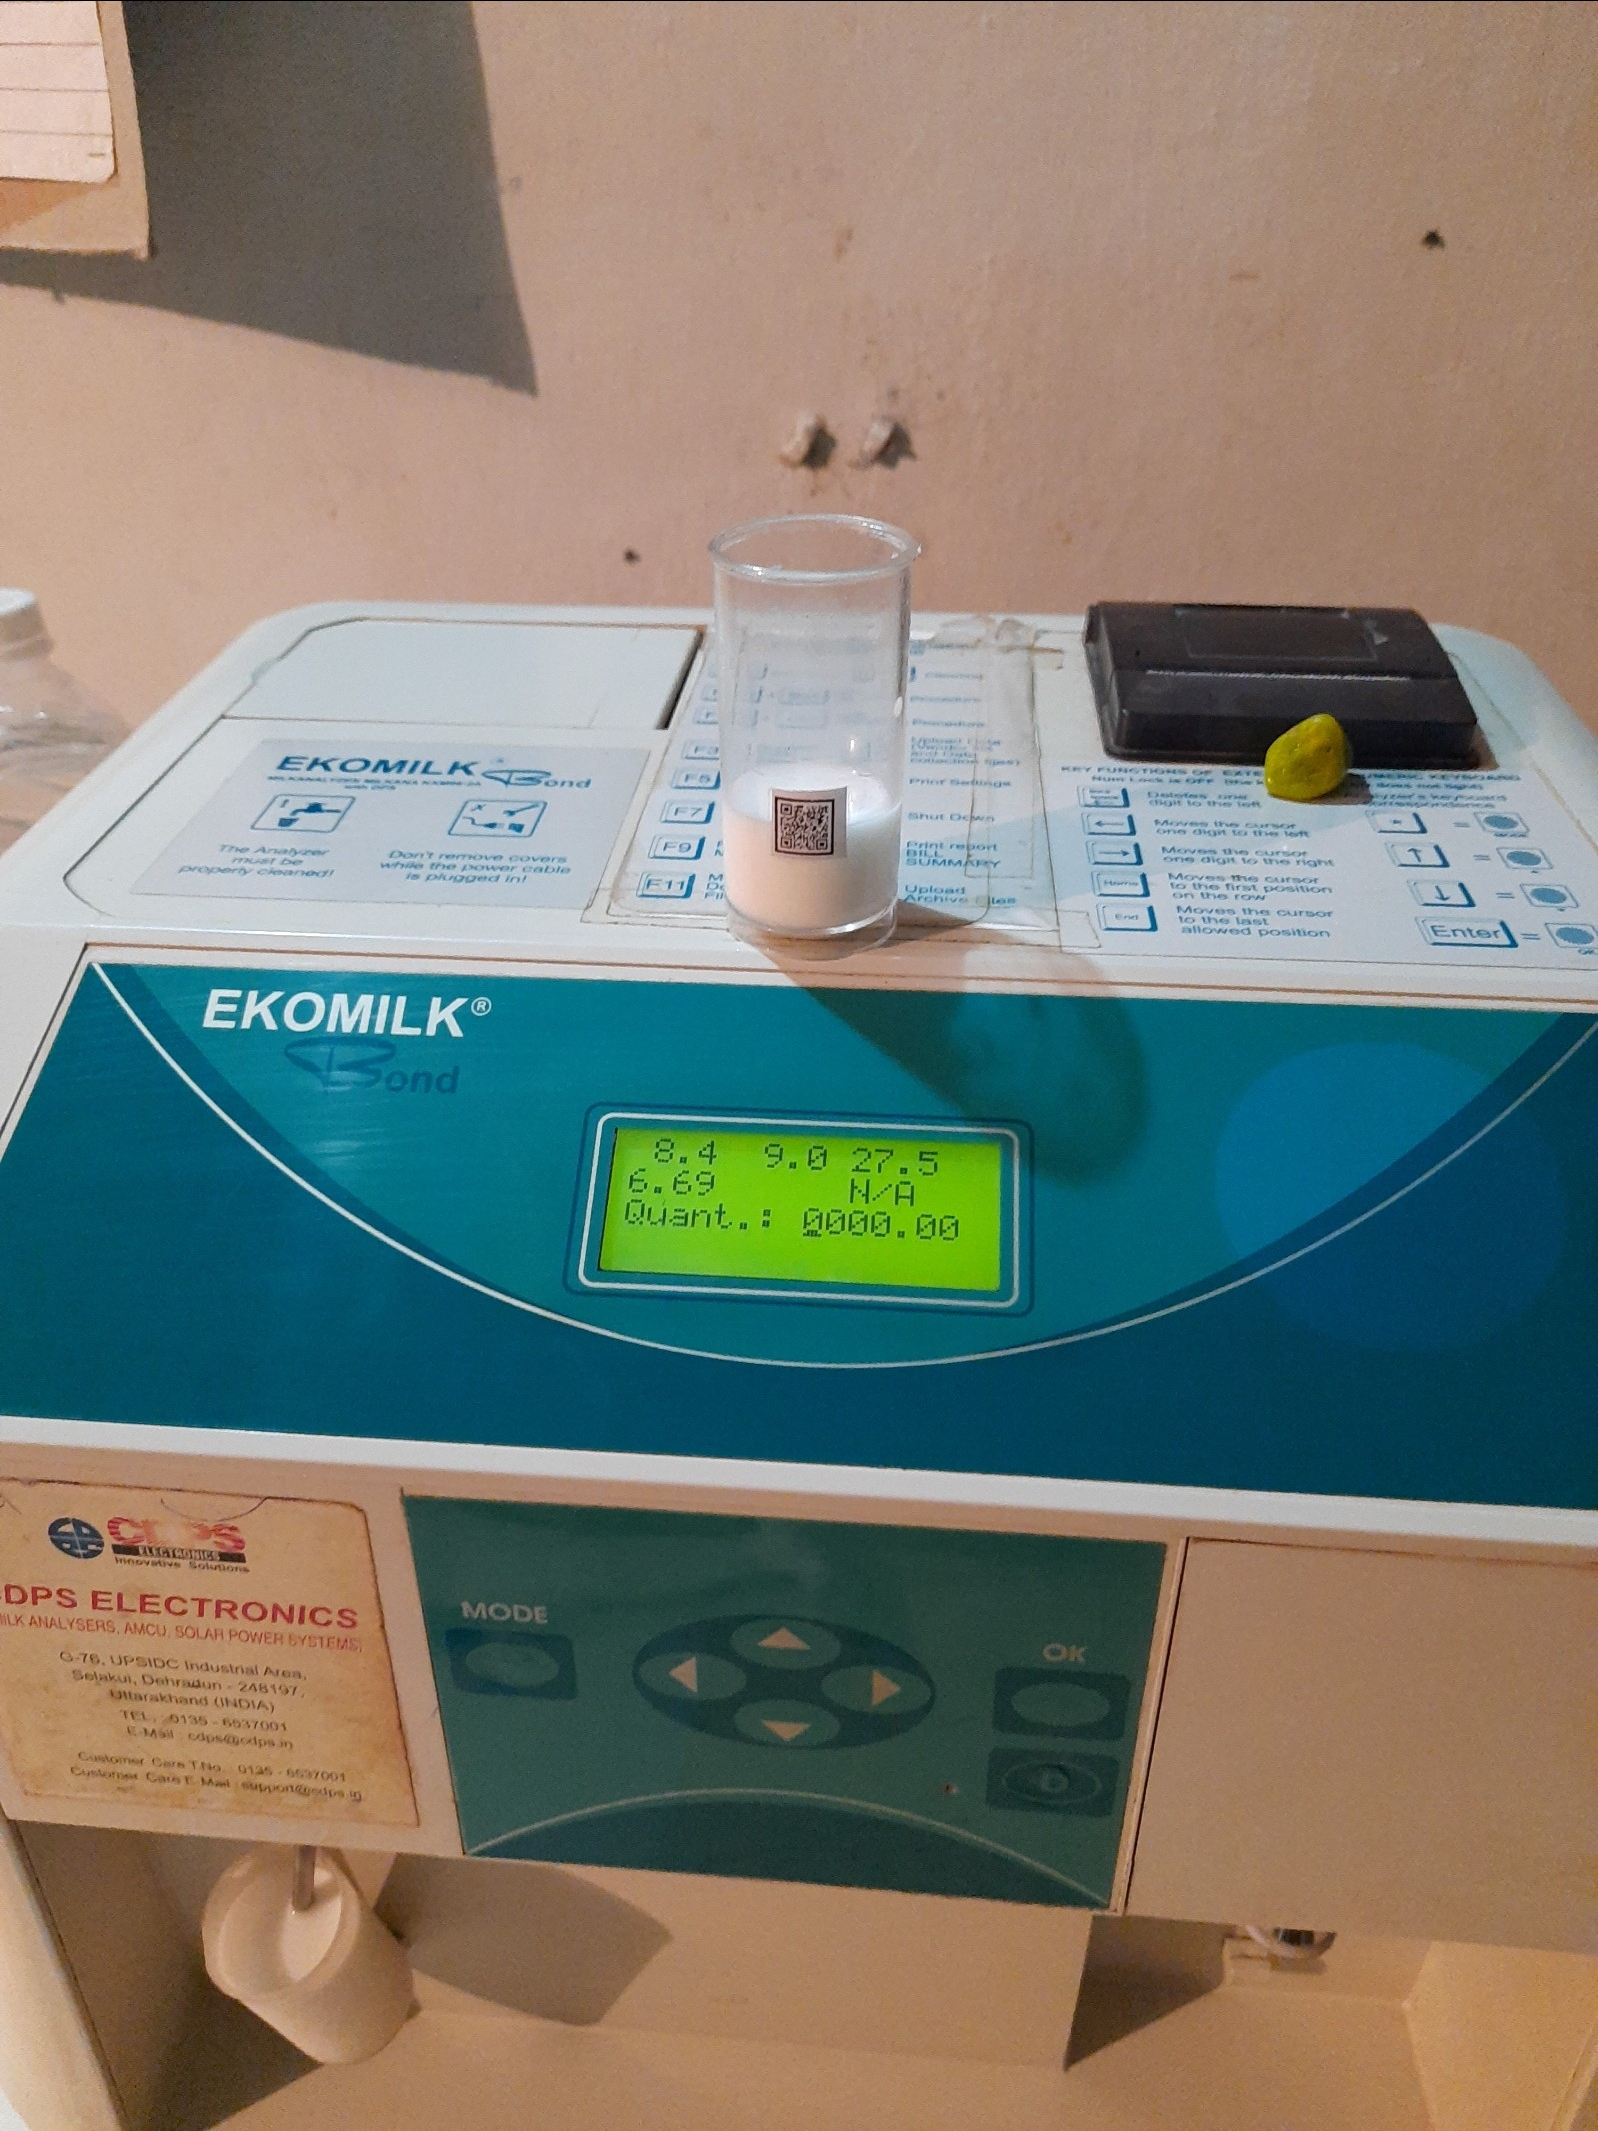lcd: (561, 1097, 1029, 1321)
qr: (760, 774, 858, 868)
